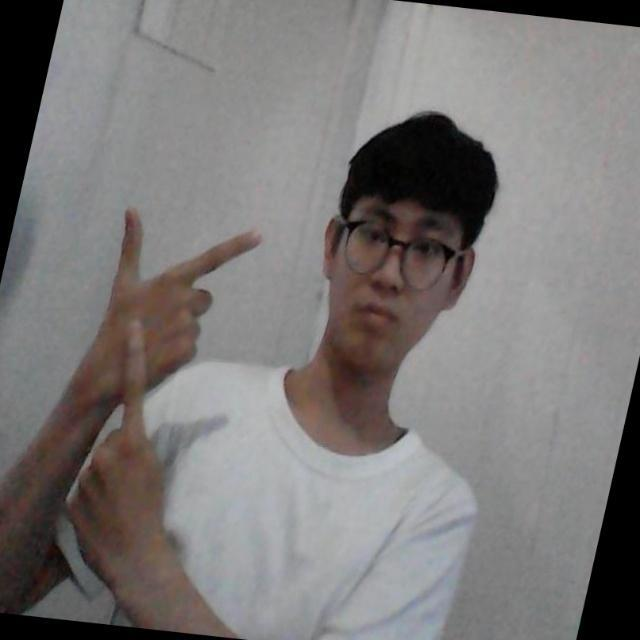Y: (64, 204, 268, 576)
